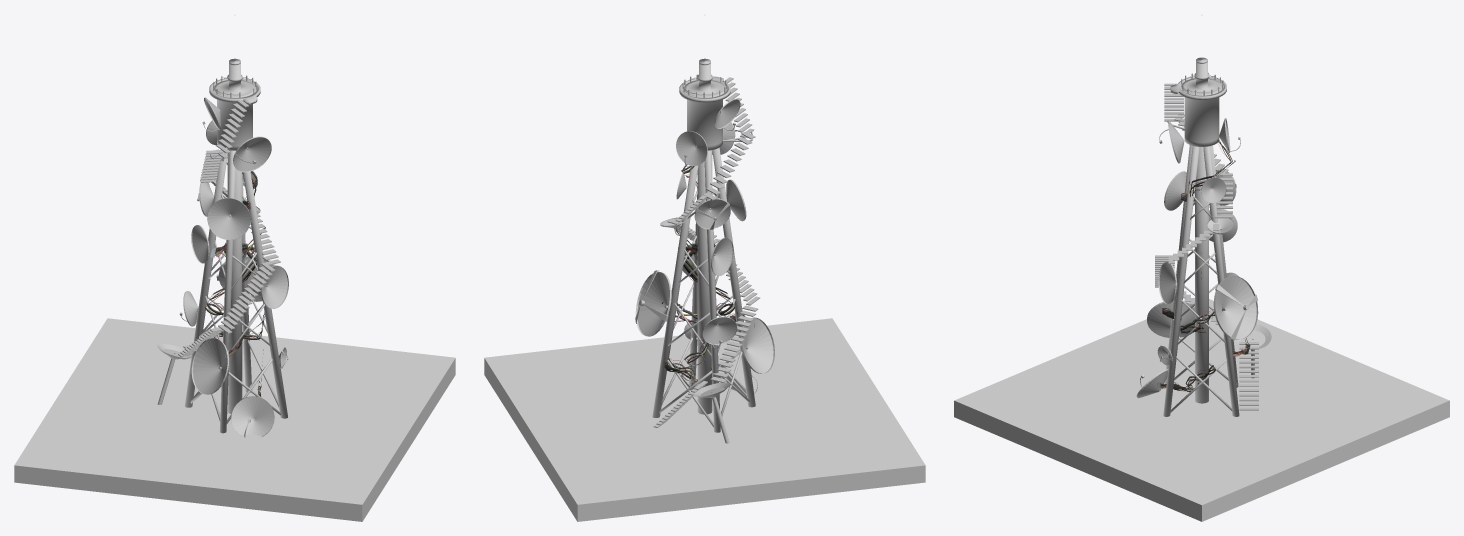
The model's file is radiotower.fbx.
3 renders of one model, left to right at view 1: azimuth 30°, elevation 25°; view 2: azimuth 150°, elevation 25°; view 3: azimuth 270°, elevation 25°, orthographic. The views are drawn at different scales.
Parts seen in each view (by area): view 1: base, Cylinder, dish_main.010, dish_main.003, dish_pile, dish_main.002, stair.002, dish_main.005, abs_wire.004, stair.006, dish_main.011, stair.005 (+1 smaller); view 2: base, Cylinder, dish_main.006, dish_main.010, stair.001, dish_main, dish_main.007, dish_main.012, stair.005, dish_main.011, abs_wire.004, Cylinder.001 (+2 smaller); view 3: base, Cylinder, dish_main.006, dish_main.010, stair, dish_main.005, stair.006, dish_main.003.
Part boxes in pixels (left/top/right/bottom): base: left=14, top=318, right=455, bottom=521; Cylinder: left=185, top=58, right=287, bottom=433; dish_main.010: left=191, top=338, right=228, bottom=394; dish_main.003: left=207, top=198, right=250, bottom=239; dish_pile: left=231, top=396, right=274, bottom=437; dish_main.002: left=233, top=136, right=271, bottom=172; stair.002: left=218, top=262, right=275, bottom=333; dish_main.005: left=261, top=265, right=288, bottom=308; abs_wire.004: left=201, top=227, right=265, bottom=315; stair.006: left=215, top=100, right=248, bottom=158; dish_main.011: left=191, top=225, right=209, bottom=263; stair.005: left=200, top=150, right=222, bottom=182; base: left=484, top=318, right=925, bottom=521; Cylinder: left=652, top=58, right=755, bottom=432; dish_main.006: left=635, top=270, right=671, bottom=336; dish_main.010: left=740, top=317, right=774, bottom=373; stair.001: left=710, top=305, right=758, bottom=382; dish_main: left=676, top=131, right=707, bottom=166; dish_main.007: left=694, top=198, right=730, bottom=229; dish_main.012: left=702, top=316, right=737, bottom=348; stair.005: left=703, top=131, right=755, bottom=200; dish_main.011: left=711, top=237, right=733, bottom=275; abs_wire.004: left=674, top=228, right=738, bottom=315; Cylinder.001: left=693, top=382, right=729, bottom=443; base: left=954, top=299, right=1449, bottom=521; Cylinder: left=1163, top=57, right=1239, bottom=416; dish_main.006: left=1213, top=276, right=1258, bottom=340; dish_main.010: left=1147, top=300, right=1194, bottom=337; stair: left=1239, top=342, right=1258, bottom=410; dish_main.005: left=1158, top=262, right=1177, bottom=303; stair.006: left=1164, top=83, right=1183, bottom=121; dish_main.003: left=1164, top=171, right=1186, bottom=210.
Size of the model in its own units: 9229 by 8281 by 9229.
